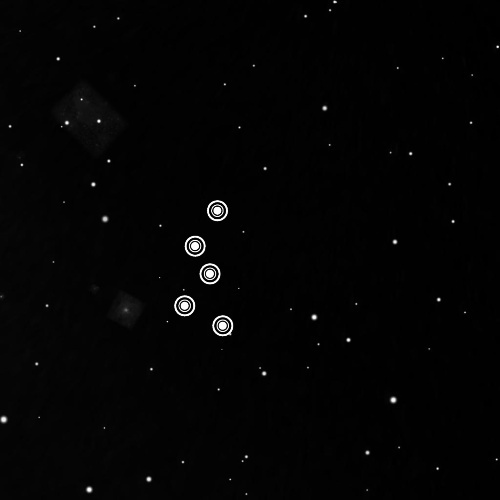cassiopeia: (172, 192, 239, 343)
